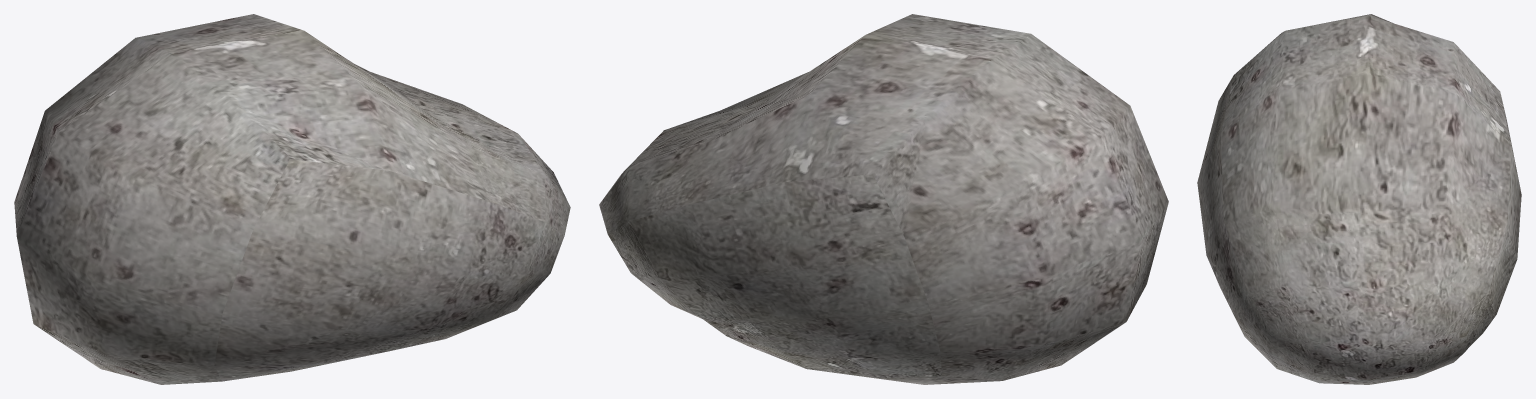
File: RockLittle.fbx
3 views of the same model, side by side, from view 1: azimuth 30°, elevation 25°; view 2: azimuth 150°, elevation 25°; view 3: azimuth 270°, elevation 25° (orthographic). The views are drawn at different scales.
Parts seen in each view (by area): view 1: RockLittle; view 2: RockLittle; view 3: RockLittle.
Boxes of the visible parts, <box> form: RockLittle: <box>14,14,570,384</box>; RockLittle: <box>599,14,1168,384</box>; RockLittle: <box>1197,14,1521,384</box>.
Size of the model in its own units: 40.92 by 23.51 by 25.95.
